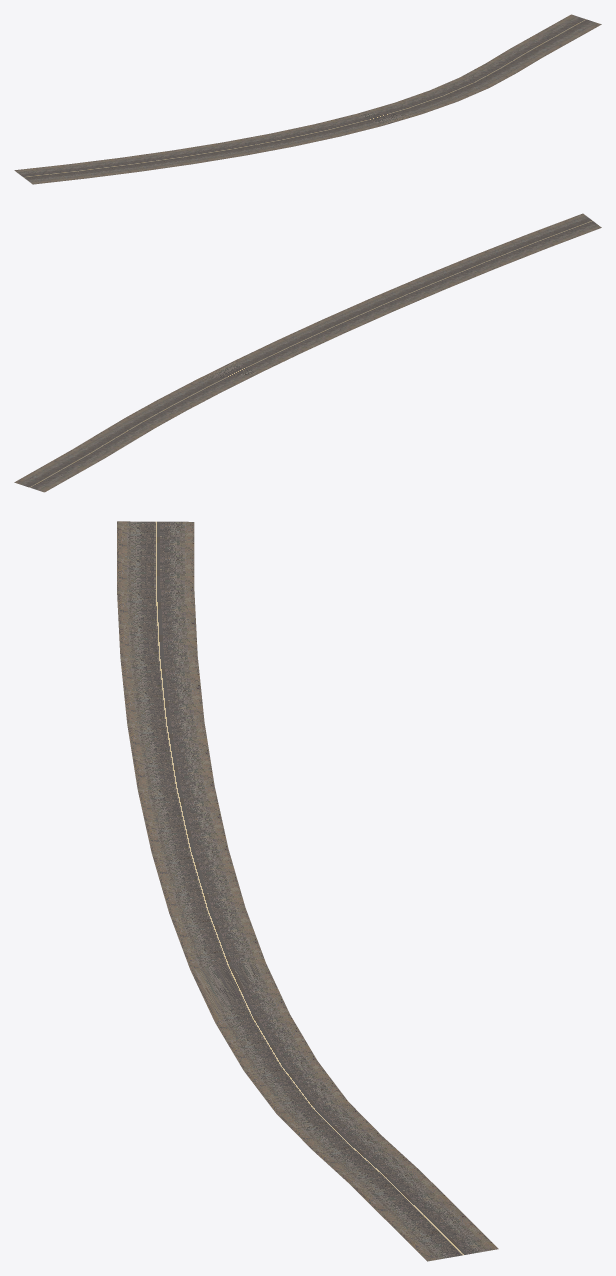
The model's file is cs_lodroads12.obj.
3 renders of one model, top to bottom at view 1: azimuth 30°, elevation 25°; view 2: azimuth 210°, elevation 25°; view 3: azimuth 270°, elevation 25°, orthographic. The views are drawn at different scales.
Parts seen in each view (by area): view 1: cs_lodroads12; view 2: cs_lodroads12; view 3: cs_lodroads12.
Boxes of the visible parts, x1,y1,x2,y2 form: cs_lodroads12: (14, 14, 601, 184); cs_lodroads12: (14, 213, 601, 492); cs_lodroads12: (117, 521, 498, 1261).
Bounding box in the file's own units: 231 × 18.62 × 59.19.
1 material, 1 textured.
